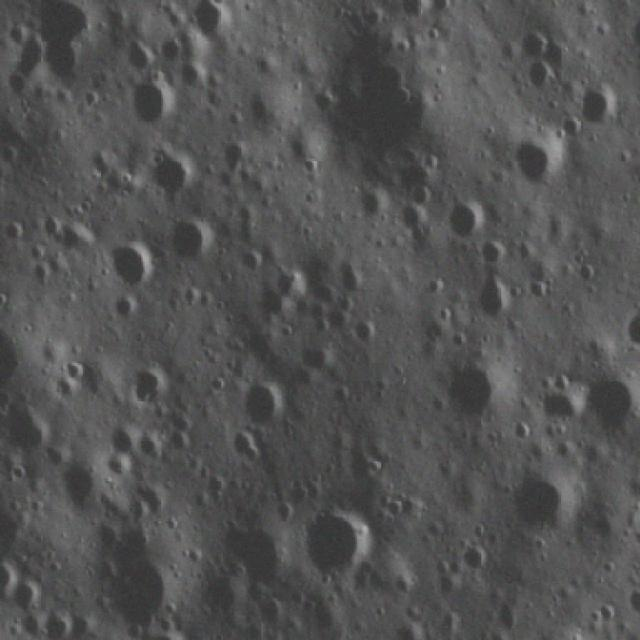crater: (96, 528, 186, 629), (297, 501, 378, 588), (502, 465, 580, 543), (215, 513, 294, 589), (436, 350, 510, 430), (575, 362, 639, 440), (510, 125, 576, 193), (47, 452, 111, 516), (232, 376, 294, 432), (534, 376, 592, 432), (124, 77, 184, 129), (124, 356, 174, 416), (145, 152, 200, 205), (182, 2, 245, 48), (166, 211, 219, 264), (468, 272, 520, 326), (574, 77, 626, 131), (109, 240, 160, 292), (442, 193, 492, 242), (49, 213, 96, 264), (391, 191, 435, 234), (348, 178, 388, 224), (510, 21, 552, 64), (5, 574, 46, 614), (33, 604, 79, 638), (520, 58, 563, 94), (118, 36, 151, 78), (102, 290, 138, 328), (456, 538, 492, 574), (476, 233, 510, 270), (352, 315, 382, 351), (158, 34, 190, 64), (378, 496, 409, 522)
